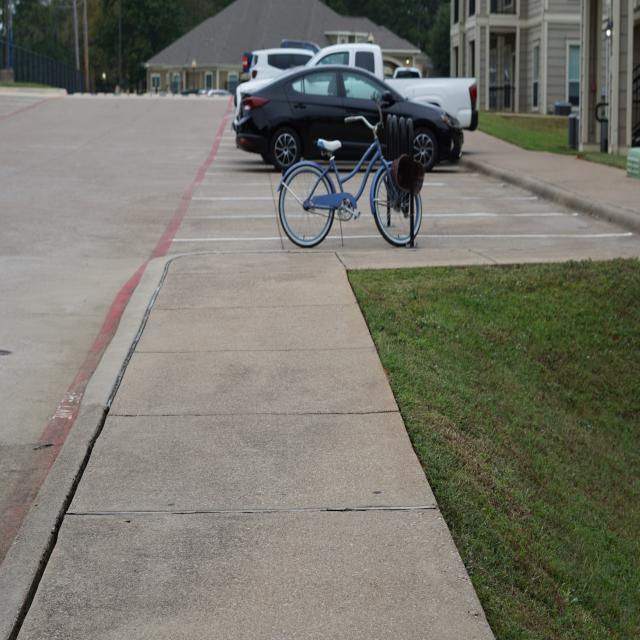Automobile: (233, 41, 478, 170)
Obstacle: (278, 114, 425, 248), (626, 147, 640, 178)
Road: (0, 88, 281, 560), (416, 166, 629, 247), (342, 180, 383, 249)
Sidewalk: (0, 235, 640, 640), (464, 132, 640, 227)
